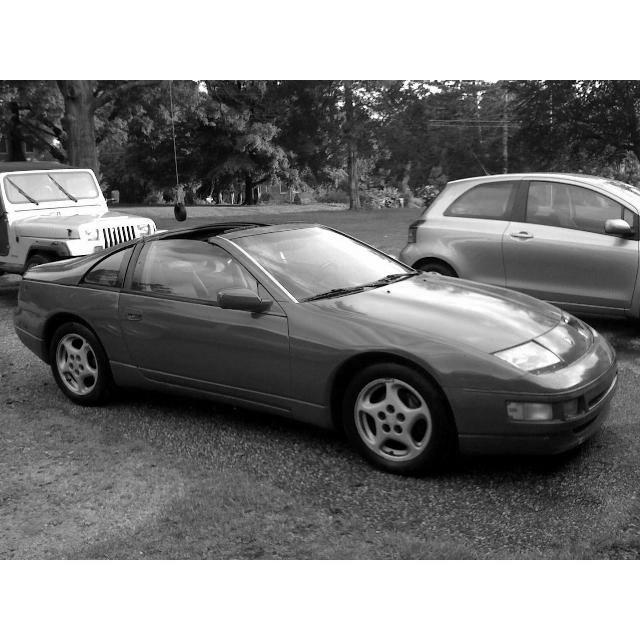doorouter-dent: (119, 273, 209, 389)
quaterpanel-dent: (33, 283, 123, 377)
